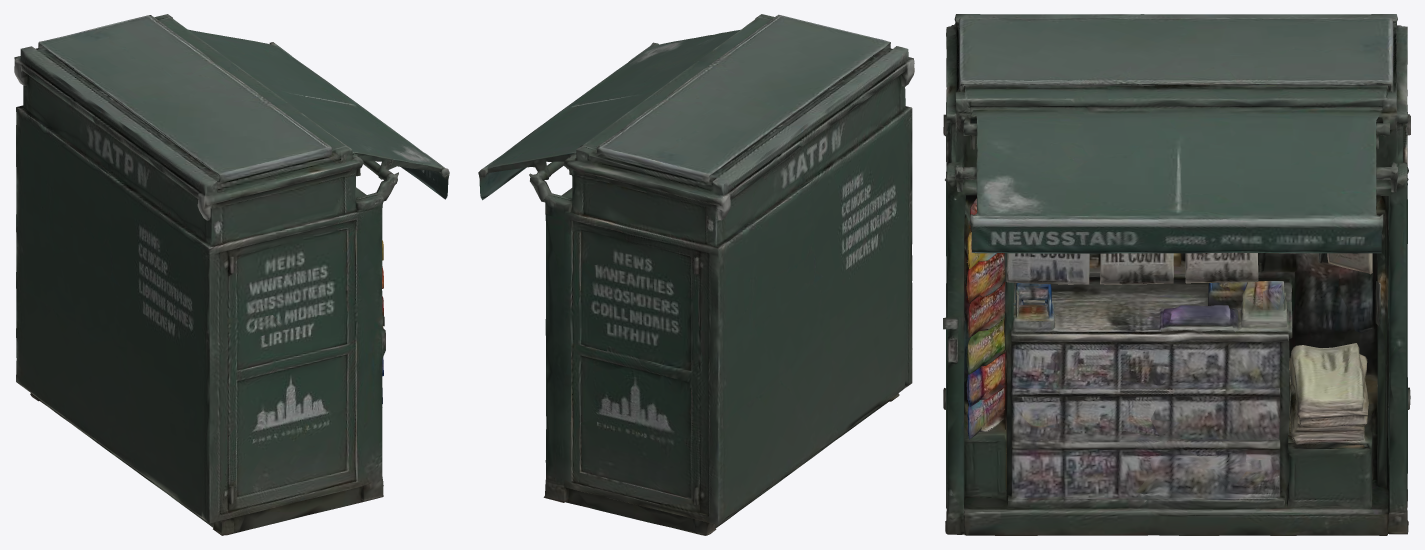
The model's file is marks_newsstand.glb.
3 renders of one model, left to right at view 1: azimuth 30°, elevation 25°; view 2: azimuth 150°, elevation 25°; view 3: azimuth 270°, elevation 25°, orthographic. The views are drawn at different scales.
Visible parts, largest first — view 1: tripo_node_f13b134b-56c4-4405-831d-e8bfa99269b6; view 2: tripo_node_f13b134b-56c4-4405-831d-e8bfa99269b6; view 3: tripo_node_f13b134b-56c4-4405-831d-e8bfa99269b6.
Boxes of the visible parts, box(x1,y1,x2,y2) form: tripo_node_f13b134b-56c4-4405-831d-e8bfa99269b6: box(14, 14, 449, 535); tripo_node_f13b134b-56c4-4405-831d-e8bfa99269b6: box(478, 14, 914, 535); tripo_node_f13b134b-56c4-4405-831d-e8bfa99269b6: box(943, 14, 1410, 535).
Size of the model in its own units: 0.7402 by 1 by 0.9899.
1 material, 1 textured.
